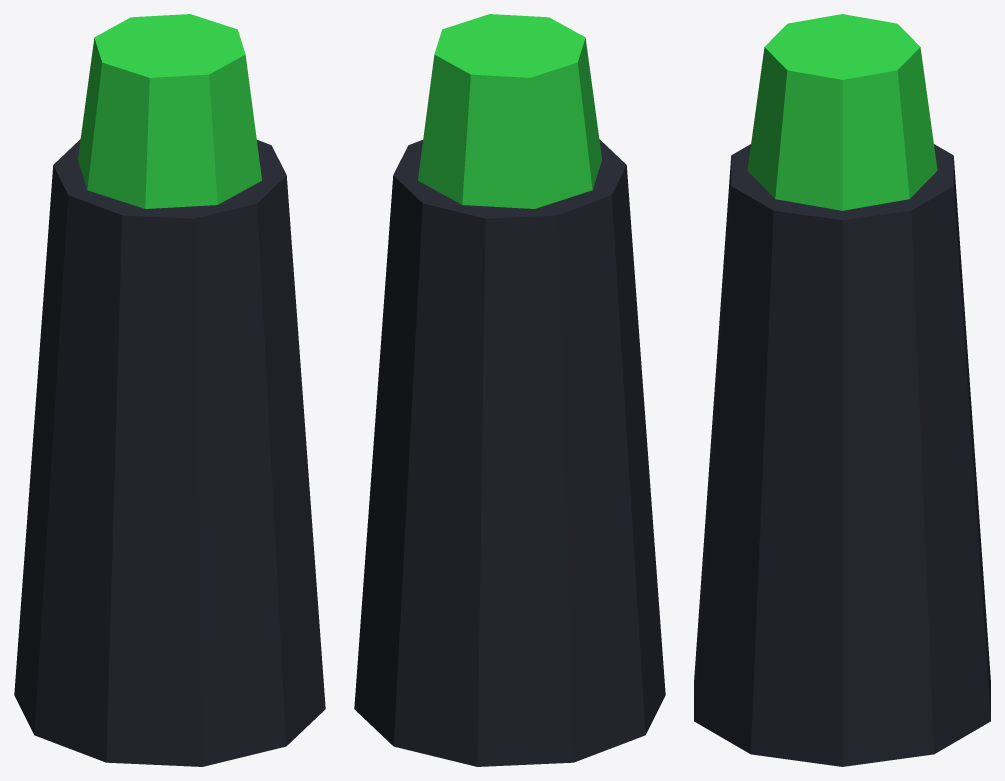
Rendered from synth_sentinel.obj.
3 renders of one model, left to right at view 1: azimuth 30°, elevation 25°; view 2: azimuth 150°, elevation 25°; view 3: azimuth 270°, elevation 25°, orthographic.
Parts seen in each view (by area): view 1: SynthSentinel; view 2: SynthSentinel; view 3: SynthSentinel.
Part boxes in pixels (x1,y1,x2,y2): SynthSentinel: (14, 14, 325, 766); SynthSentinel: (354, 14, 665, 766); SynthSentinel: (694, 14, 990, 766).
Size of the model in its own units: 0.8 by 1.85 by 0.7608.
